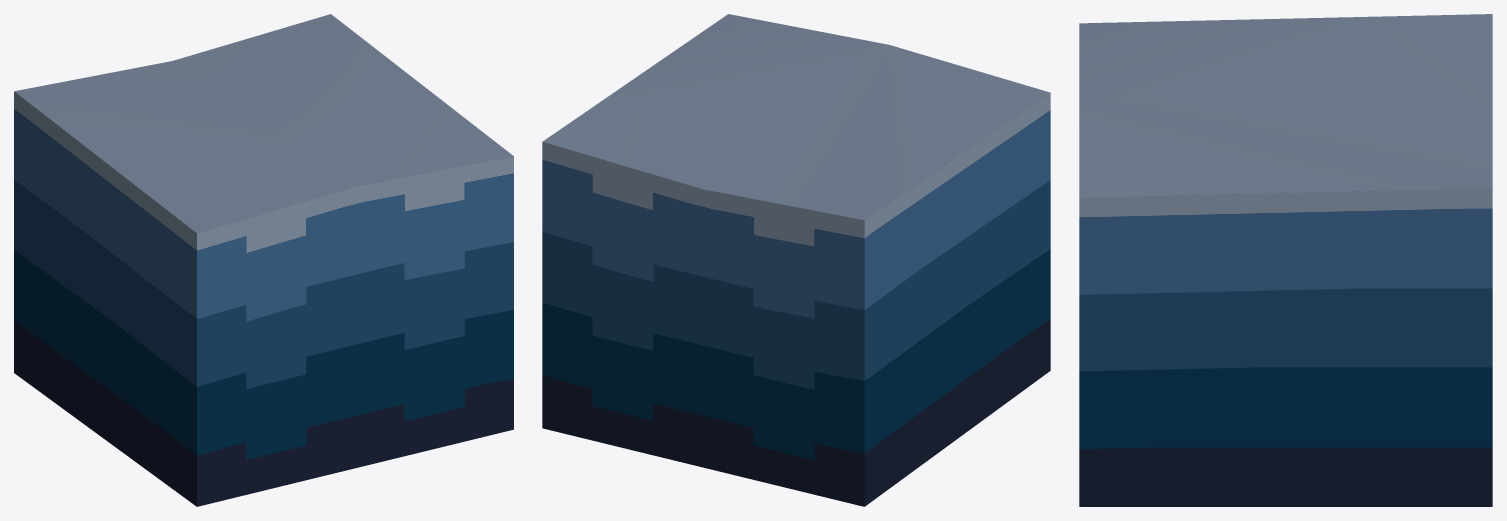
Rendered from water.fbx.
The picture shows the model from 3 angles, left to right: view 1: azimuth 30°, elevation 25°; view 2: azimuth 150°, elevation 25°; view 3: azimuth 270°, elevation 25°; orthographic projection. The views are drawn at different scales.
Visible parts, largest first — view 1: water; view 2: water; view 3: water.
Part boxes in pixels (x1=…): water: x1=14, y1=14, x2=513, y2=506; water: x1=542, y1=14, x2=1050, y2=506; water: x1=1079, y1=14, x2=1492, y2=506.
Bounding box in the file's own units: 20 × 17 × 20.
1 material, 1 textured.
